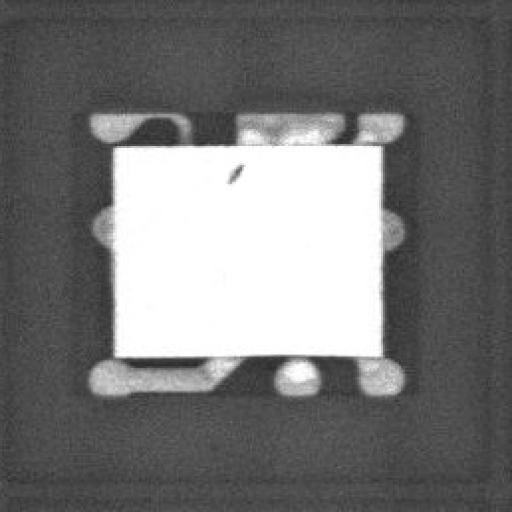DIE_INK: (214, 168, 234, 192)
